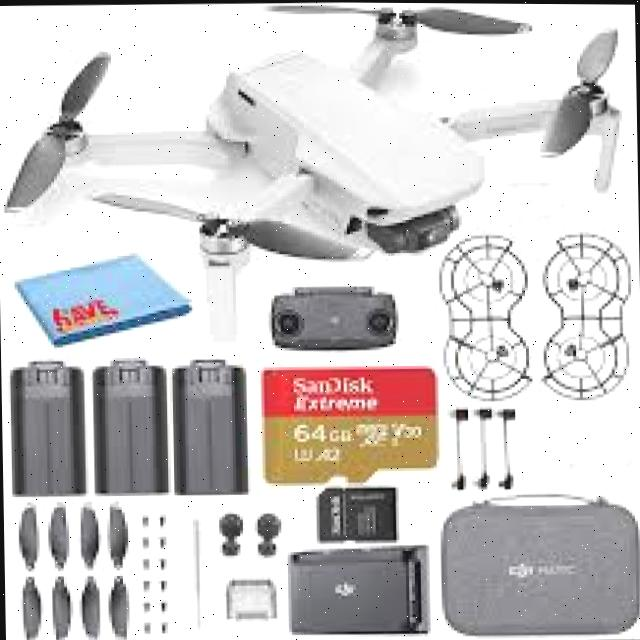drone: (0, 0, 640, 346)
